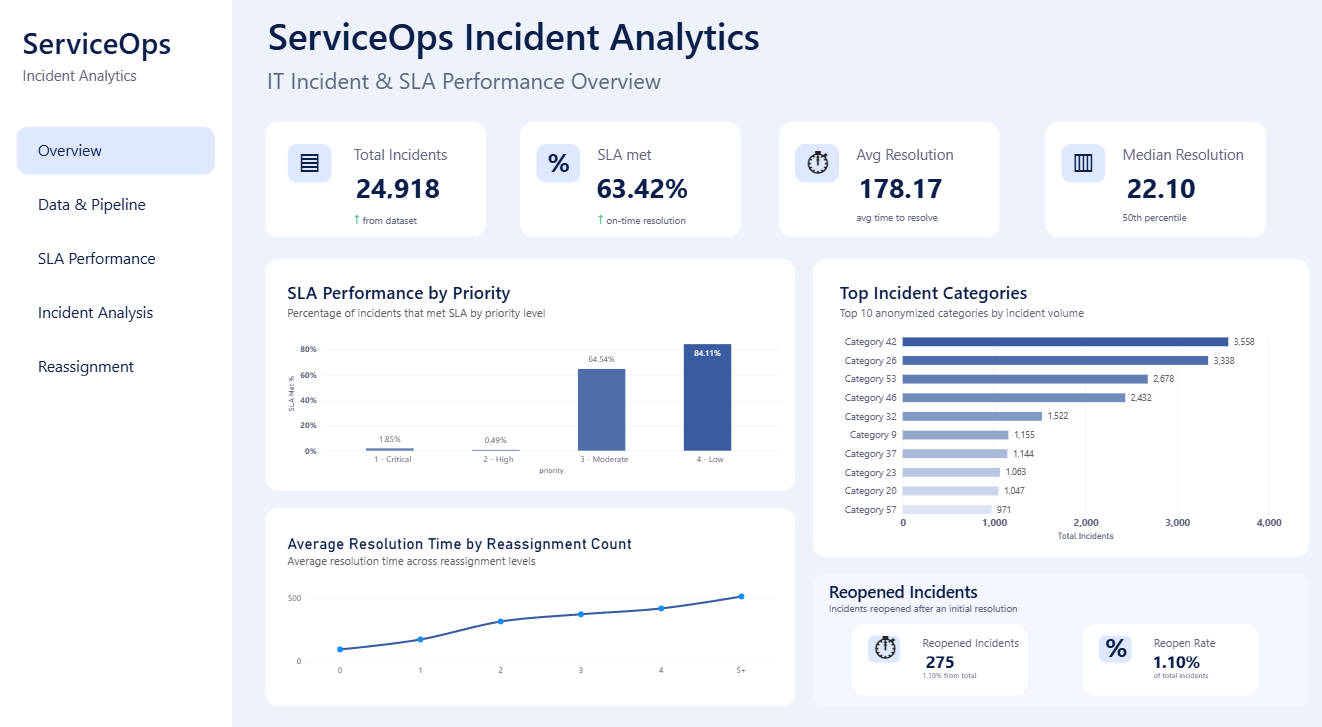

This screenshot's page, from the dashboard's own definition file:
{"tool":"powerbi","page":{"name":"Overview","canvas":[1920,1080],"ordinal":0},"visuals":[{"type":"shape","box":[0,-24,336,1104],"z":0},{"type":"textbox","box":[384,24,720,72],"z":0,"group":"g1"},{"type":"textbox","box":[32,40,240,64],"z":0,"group":"g2"},{"type":"shape","box":[384,184,320,168],"z":0,"group":"g3"},{"type":"shape","box":[752,184,320,168],"z":0,"group":"g4"},{"type":"shape","box":[1128,184,320,168],"z":0,"group":"g5"},{"type":"shape","box":[1512,184,320,168],"z":0,"group":"g6"},{"type":"shape","box":[1232,912,256,104],"z":0,"group":"g8"},{"type":"shape","box":[1568,912,256,104],"z":0,"group":"g9"},{"type":"group","id":"g1","title":"Group 1","box":[384,24,720,168],"z":1000},{"type":"textbox","box":[32,104,240,32],"z":1000,"group":"g2"},{"type":"textbox","box":[384,104,576,48],"z":1000,"group":"g1"},{"type":"group","id":"g2","title":"Group 2","box":[32,40,240,96],"z":2000},{"type":"shape","box":[384,384,768,336],"z":3000},{"type":"shape","box":[384,744,768,288],"z":4000},{"type":"shape","box":[1176,384,720,432],"z":5000},{"type":"pageNavigator","box":[24,192,288,384],"z":6000},{"type":"shape","box":[1176,840,720,192],"z":6000,"group":"g7"},{"type":"group","id":"g3","title":"Group 3","box":[384,184,320,168],"z":7000},{"type":"group","id":"g4","title":"Group 3","box":[752,184,320,168],"z":8000},{"type":"group","id":"g5","title":"Group 3","box":[1128,184,320,168],"z":9000},{"type":"group","id":"g6","title":"Group 3","box":[1512,184,320,168],"z":10000},{"type":"columnChart","title":"SLA Performance by Priority","fields":{"Category":["analytics fact_incidents.priority"],"Y":["analytics fact_incidents.SLA Met %"]},"box":[400,400,744,312],"z":11000},{"type":"clusteredBarChart","title":"Top Incident Categories","fields":{"Category":["analytics fact_incidents.category"],"Y":["analytics fact_incidents.Total Incidents"]},"box":[1200,400,672,408],"z":12000},{"type":"group","id":"g7","title":"Group 4","box":[1176,840,720,192],"z":13000},{"type":"card","fields":{"Values":["analytics fact_incidents.Total Incidents"]},"box":[496,248,160,64],"z":14000,"group":"g3"},{"type":"card","fields":{"Values":["analytics fact_incidents.SLA Met %"]},"box":[840,248,176,64],"z":14000,"group":"g4"},{"type":"card","fields":{"Values":["analytics fact_incidents.Average Resolution Hours"]},"box":[1224,248,160,64],"z":14000,"group":"g5"},{"type":"card","fields":{"Values":["analytics fact_incidents.Median Resolution Hours"]},"box":[1608,248,144,64],"z":14000,"group":"g6"},{"type":"lineChart","title":"Average Resolution Time by Reassignment Count","fields":{"Category":["analytics fact_incidents.Reassignment Group"],"Y":["analytics fact_incidents.Average Resolution Hours"]},"box":[400,768,736,240],"z":14000},{"type":"card","fields":{"Values":["analytics fact_incidents.Reopened Incidents"]},"box":[1320,944,80,48],"z":14000,"group":"g8"},{"type":"card","fields":{"Values":["analytics fact_incidents.Reopen Rate"]},"box":[1648,944,112,48],"z":14000,"group":"g9"},{"type":"textbox","box":[512,216,144,32],"z":15000,"group":"g3"},{"type":"textbox","box":[864,216,144,32],"z":15000,"group":"g4"},{"type":"textbox","box":[1240,216,144,32],"z":15000,"group":"g5"},{"type":"textbox","box":[1624,216,192,32],"z":15000,"group":"g6"},{"type":"textbox","box":[1200,848,224,32],"z":15000},{"type":"textbox","box":[1336,928,168,24],"z":15000,"group":"g8"},{"type":"textbox","box":[1672,928,168,24],"z":15000,"group":"g9"},{"type":"shape","box":[416,216,64,56],"z":16000,"group":"g3"},{"type":"shape","box":[776,216,64,56],"z":16000,"group":"g4"},{"type":"shape","box":[1152,216,64,56],"z":16000,"group":"g5"},{"type":"shape","box":[1536,216,64,56],"z":16000,"group":"g6"},{"type":"textbox","box":[1200,880,288,24],"z":16000},{"type":"shape","box":[1256,928,48,40],"z":16000,"group":"g8"},{"type":"shape","box":[1592,928,48,40],"z":16000,"group":"g9"},{"type":"textbox","box":[432,216,40,56],"z":17000,"group":"g3"},{"type":"textbox","box":[792,216,40,56],"z":17000,"group":"g4"},{"type":"textbox","box":[1168,216,40,56],"z":17000,"group":"g5"},{"type":"textbox","box":[1552,216,40,56],"z":17000,"group":"g6"},{"type":"group","id":"g8","title":"Group 3","box":[1232,912,272,104],"z":17000},{"type":"textbox","box":[1264,920,32,56],"z":17000,"group":"g8"},{"type":"textbox","box":[1600,920,32,56],"z":17000,"group":"g9"},{"type":"textbox","box":[512,312,144,32],"z":18000,"group":"g3"},{"type":"textbox","box":[864,312,144,32],"z":18000,"group":"g4"},{"type":"textbox","box":[1240,312,144,32],"z":18000,"group":"g5"},{"type":"textbox","box":[1624,312,144,32],"z":18000,"group":"g6"},{"type":"group","id":"g9","title":"Group 3","box":[1568,912,272,104],"z":18000},{"type":"textbox","box":[1336,976,112,32],"z":18000,"group":"g8"},{"type":"textbox","box":[1672,976,112,32],"z":18000,"group":"g9"}]}

Visuals, with their boxes on the page's 1920x1080 design canvas (x1, y1, x2, y2). These are canvas units, not pixel positions in the 1322x727 screenshot, which may show the page scaled, cropped or inside an application window:
shape: (left=0, top=-24, right=336, bottom=1080)
textbox: (left=384, top=24, right=1104, bottom=96)
textbox: (left=32, top=40, right=272, bottom=104)
shape: (left=384, top=184, right=704, bottom=352)
shape: (left=752, top=184, right=1072, bottom=352)
shape: (left=1128, top=184, right=1448, bottom=352)
shape: (left=1512, top=184, right=1832, bottom=352)
shape: (left=1232, top=912, right=1488, bottom=1016)
shape: (left=1568, top=912, right=1824, bottom=1016)
"Group 1" group: (left=384, top=24, right=1104, bottom=192)
textbox: (left=32, top=104, right=272, bottom=136)
textbox: (left=384, top=104, right=960, bottom=152)
"Group 2" group: (left=32, top=40, right=272, bottom=136)
shape: (left=384, top=384, right=1152, bottom=720)
shape: (left=384, top=744, right=1152, bottom=1032)
shape: (left=1176, top=384, right=1896, bottom=816)
pageNavigator: (left=24, top=192, right=312, bottom=576)
shape: (left=1176, top=840, right=1896, bottom=1032)
"Group 3" group: (left=384, top=184, right=704, bottom=352)
"Group 3" group: (left=752, top=184, right=1072, bottom=352)
"Group 3" group: (left=1128, top=184, right=1448, bottom=352)
"Group 3" group: (left=1512, top=184, right=1832, bottom=352)
"SLA Performance by Priority" columnChart: (left=400, top=400, right=1144, bottom=712)
"Top Incident Categories" clusteredBarChart: (left=1200, top=400, right=1872, bottom=808)
"Group 4" group: (left=1176, top=840, right=1896, bottom=1032)
card - analytics fact_incidents.Total Incidents: (left=496, top=248, right=656, bottom=312)
card - analytics fact_incidents.SLA Met %: (left=840, top=248, right=1016, bottom=312)
card - analytics fact_incidents.Average Resolution Hours: (left=1224, top=248, right=1384, bottom=312)
card - analytics fact_incidents.Median Resolution Hours: (left=1608, top=248, right=1752, bottom=312)
"Average Resolution Time by Reassignment Count" lineChart: (left=400, top=768, right=1136, bottom=1008)
card - analytics fact_incidents.Reopened Incidents: (left=1320, top=944, right=1400, bottom=992)
card - analytics fact_incidents.Reopen Rate: (left=1648, top=944, right=1760, bottom=992)
textbox: (left=512, top=216, right=656, bottom=248)
textbox: (left=864, top=216, right=1008, bottom=248)
textbox: (left=1240, top=216, right=1384, bottom=248)
textbox: (left=1624, top=216, right=1816, bottom=248)
textbox: (left=1200, top=848, right=1424, bottom=880)
textbox: (left=1336, top=928, right=1504, bottom=952)
textbox: (left=1672, top=928, right=1840, bottom=952)
shape: (left=416, top=216, right=480, bottom=272)
shape: (left=776, top=216, right=840, bottom=272)
shape: (left=1152, top=216, right=1216, bottom=272)
shape: (left=1536, top=216, right=1600, bottom=272)
textbox: (left=1200, top=880, right=1488, bottom=904)
shape: (left=1256, top=928, right=1304, bottom=968)
shape: (left=1592, top=928, right=1640, bottom=968)
textbox: (left=432, top=216, right=472, bottom=272)
textbox: (left=792, top=216, right=832, bottom=272)
textbox: (left=1168, top=216, right=1208, bottom=272)
textbox: (left=1552, top=216, right=1592, bottom=272)
"Group 3" group: (left=1232, top=912, right=1504, bottom=1016)
textbox: (left=1264, top=920, right=1296, bottom=976)
textbox: (left=1600, top=920, right=1632, bottom=976)
textbox: (left=512, top=312, right=656, bottom=344)
textbox: (left=864, top=312, right=1008, bottom=344)
textbox: (left=1240, top=312, right=1384, bottom=344)
textbox: (left=1624, top=312, right=1768, bottom=344)
"Group 3" group: (left=1568, top=912, right=1840, bottom=1016)
textbox: (left=1336, top=976, right=1448, bottom=1008)
textbox: (left=1672, top=976, right=1784, bottom=1008)
